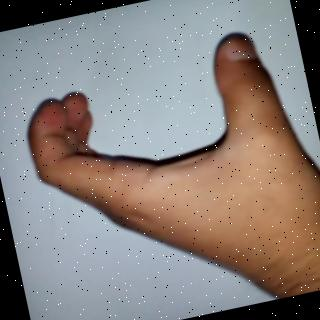C: (9, 11, 318, 295)
